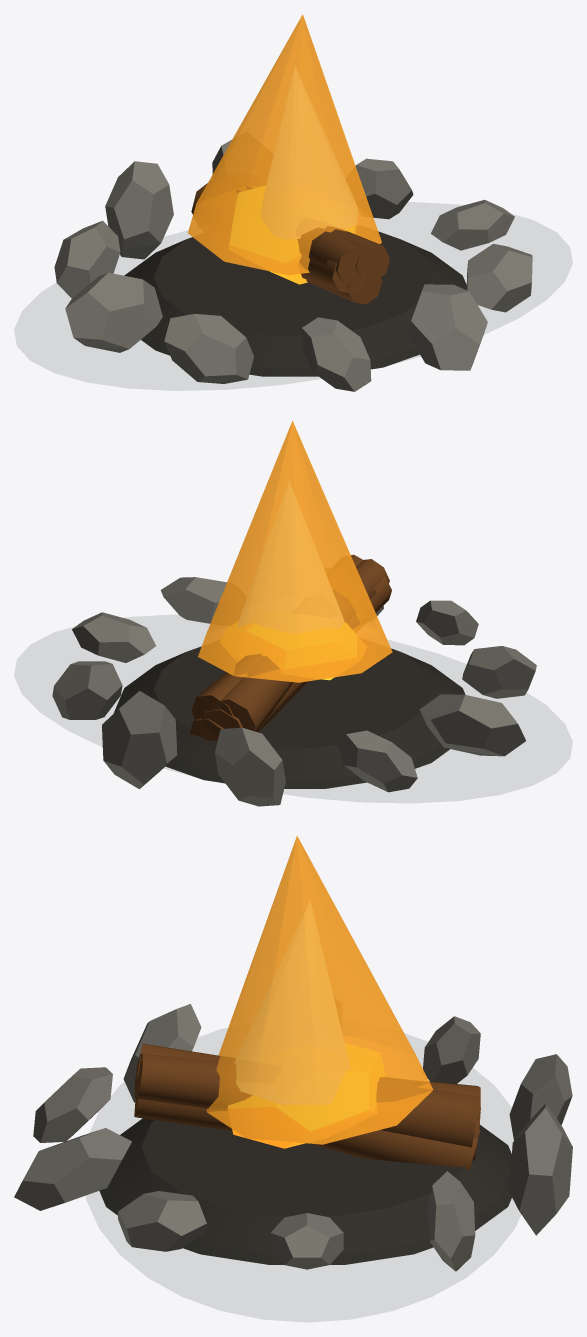
The model's file is campfire.glb.
3 views of the same model, one above another, from view 1: azimuth 30°, elevation 25°; view 2: azimuth 150°, elevation 25°; view 3: azimuth 270°, elevation 25° (orthographic). The views are drawn at different scales.
Parts seen in each view (by area): view 1: flame_outer, ash_bed, soft_ground_shadow, flame_inner, fire_ring_stone_5, fire_ring_stone_2, fire_ring_stone_7, fire_ring_stone_4, fire_ring_stone_3, fire_ring_stone_1, fire_ring_stone_6, ember_core (+6 smaller); view 2: flame_outer, ash_bed, soft_ground_shadow, flame_inner, fire_ring_stone_8, fire_ring_stone_5, ember_core, fire_ring_stone_7, fire_ring_stone_9, fire_ring_stone_6, fire_ring_stone_4, fire_ring_stone_0 (+6 smaller); view 3: flame_outer, ash_bed, soft_ground_shadow, flame_inner, fire_ring_stone_8, fire_ring_stone_2, crossed_log_3, ember_core, crossed_log_1, fire_ring_stone_1, fire_ring_stone_3, fire_ring_stone_9 (+6 smaller).
Boxes of the visible parts, x1,y1,x2,y2 form: flame_outer: (188,14,381,275); ash_bed: (124,231,466,376); soft_ground_shadow: (15,202,572,390); flame_inner: (261,66,358,239); fire_ring_stone_5: (65,272,162,352); fire_ring_stone_2: (407,284,487,370); fire_ring_stone_7: (105,161,173,259); fire_ring_stone_4: (164,313,253,383); fire_ring_stone_3: (302,317,371,391); fire_ring_stone_1: (466,243,532,312); fire_ring_stone_6: (54,220,120,298); ember_core: (230,186,356,284); flame_outer: (198,421,392,682); ash_bed: (113,646,465,788); soft_ground_shadow: (15,615,571,802); flame_inner: (237,481,343,633); fire_ring_stone_8: (102,691,177,789); fire_ring_stone_5: (419,694,525,756); ember_core: (220,622,356,680); fire_ring_stone_7: (215,727,285,806); fire_ring_stone_9: (52,661,122,719); fire_ring_stone_6: (338,730,417,792); fire_ring_stone_4: (462,646,536,698); fire_ring_stone_0: (72,612,155,662); flame_outer: (206,835,433,1144); ash_bed: (99,1118,511,1264); soft_ground_shadow: (86,1028,519,1321); flame_inner: (235,900,350,1104); fire_ring_stone_8: (509,1103,572,1235); fire_ring_stone_2: (14,1128,131,1210); crossed_log_3: (134,1053,480,1119); ember_core: (228,1043,385,1148); crossed_log_1: (134,1044,480,1147); fire_ring_stone_1: (118,1191,206,1251); fire_ring_stone_3: (33,1067,112,1142); fire_ring_stone_9: (428,1171,475,1271).
Size of the model in its own units: 2.7 by 1.51 by 2.09.
